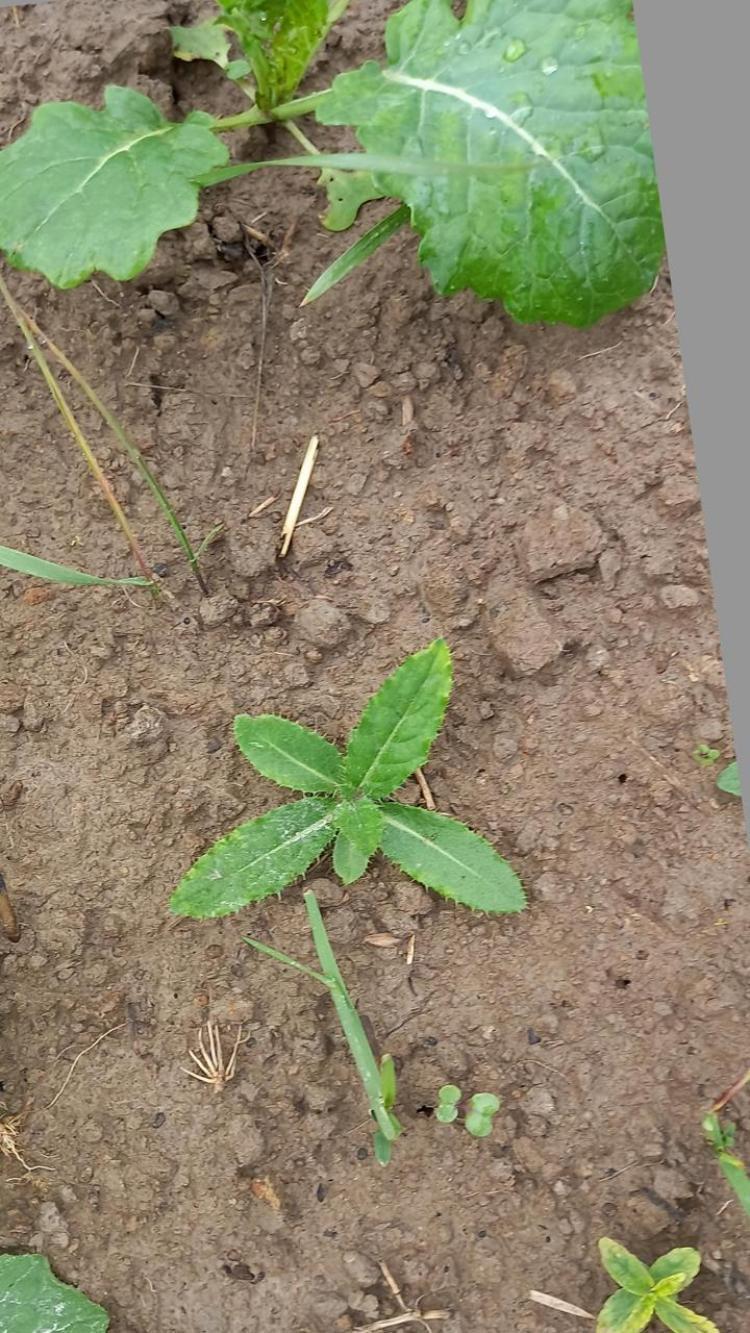bodyak: (168, 650, 538, 954)
